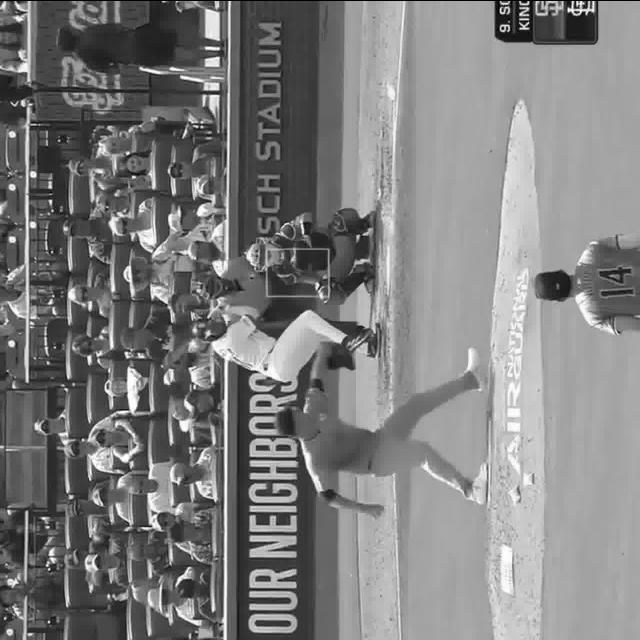base: (383, 248, 394, 296)
baseball_glove: (293, 240, 312, 270)
bat: (163, 305, 214, 367)
shoe: (472, 453, 492, 501), (344, 318, 369, 352), (467, 346, 483, 390), (372, 325, 384, 358)
